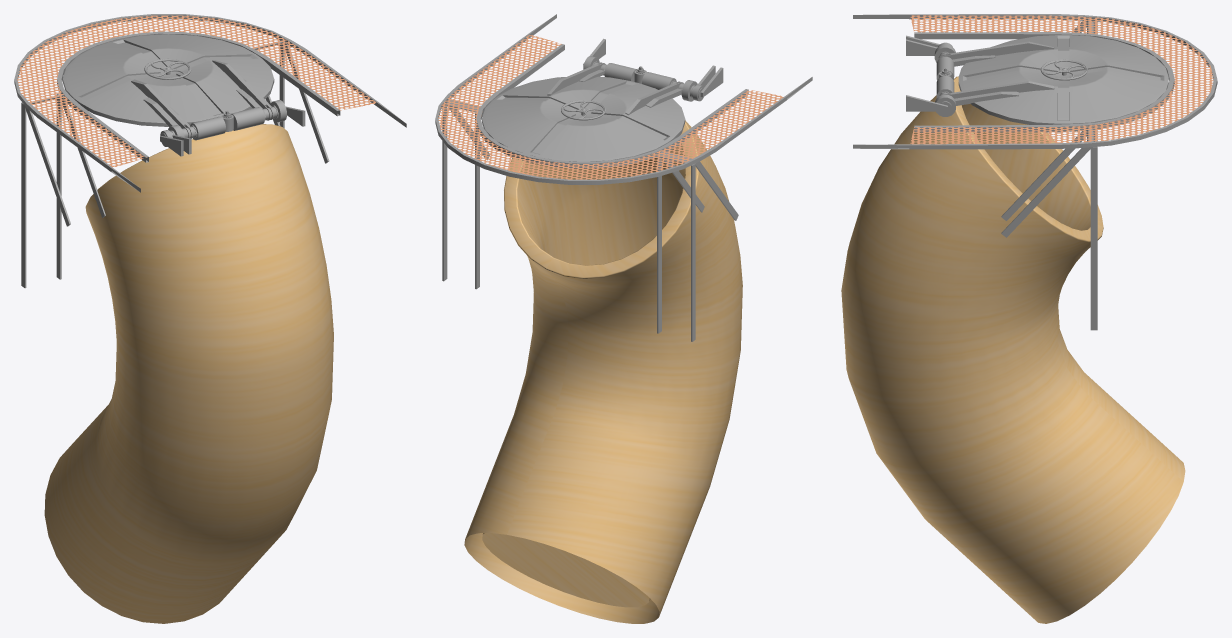
The model's file is Gut Hatch.fbx.
The picture shows the model from 3 angles, left to right: view 1: azimuth 30°, elevation 25°; view 2: azimuth 150°, elevation 25°; view 3: azimuth 270°, elevation 25°; orthographic projection. The views are drawn at different scales.
Visible parts, largest first — view 1: Pipe2, lid_2, horse_shoe, horse_shoe2, horse_shoe1, polySurface100 (×2), pCube186, pCube185, pCube180, pCylinder52, pCube187; view 2: Pipe2, lid_2, horse_shoe, horse_shoe2, horse_shoe1, pCube189, pCube186, pCube185, pCube190; view 3: Pipe2, lid_2, horse_shoe, horse_shoe2, horse_shoe1, polySurface100 (×2), pCube189, pCube187, pCube188.
Part boxes in pixels (left/top/right/bottom): Pipe2: left=44, top=124, right=333, bottom=623; lid_2: left=62, top=34, right=274, bottom=126; horse_shoe: left=17, top=15, right=375, bottom=166; horse_shoe2: left=14, top=14, right=406, bottom=192; horse_shoe1: left=57, top=31, right=340, bottom=162; polySurface100 (×2): left=131, top=60, right=273, bottom=138; pCube186: left=21, top=102, right=26, bottom=288; pCube185: left=56, top=93, right=61, bottom=279; pCube180: left=24, top=105, right=70, bottom=226; pCylinder52: left=231, top=107, right=264, bottom=130; pCube187: left=284, top=40, right=329, bottom=163; Pipe2: left=464, top=120, right=742, bottom=623; lid_2: left=482, top=76, right=685, bottom=161; horse_shoe: left=438, top=35, right=783, bottom=179; horse_shoe2: left=435, top=14, right=812, bottom=184; horse_shoe1: left=476, top=44, right=748, bottom=168; pCube189: left=442, top=104, right=447, bottom=281; pCube186: left=691, top=163, right=695, bottom=341; pCube185: left=657, top=156, right=661, bottom=333; pCube190: left=475, top=111, right=479, bottom=289; Pipe2: left=841, top=76, right=1185, bottom=623; lid_2: left=958, top=35, right=1168, bottom=124; horse_shoe: left=910, top=15, right=1213, bottom=144; horse_shoe2: left=853, top=14, right=1217, bottom=149; horse_shoe1: left=914, top=32, right=1174, bottom=132; polySurface100 (×2): left=938, top=41, right=1054, bottom=105; pCube189: left=1090, top=146, right=1097, bottom=330; pCube187: left=1001, top=147, right=1090, bottom=237; pCube188: left=1001, top=127, right=1087, bottom=220.
Size of the model in its own units: 1920 by 3749 by 2331.
3 materials, 2 textured.
